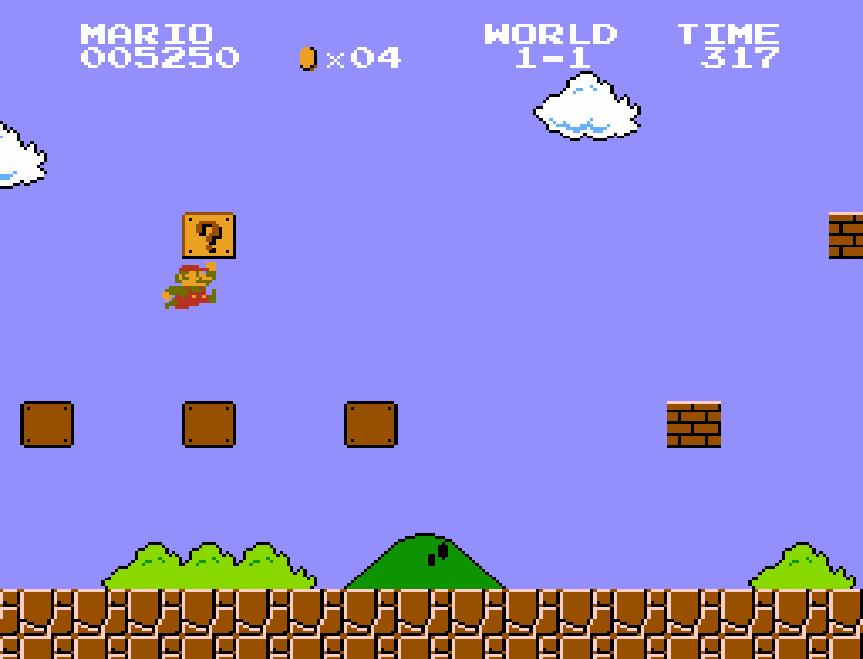little_mario: (159, 260, 217, 310)
